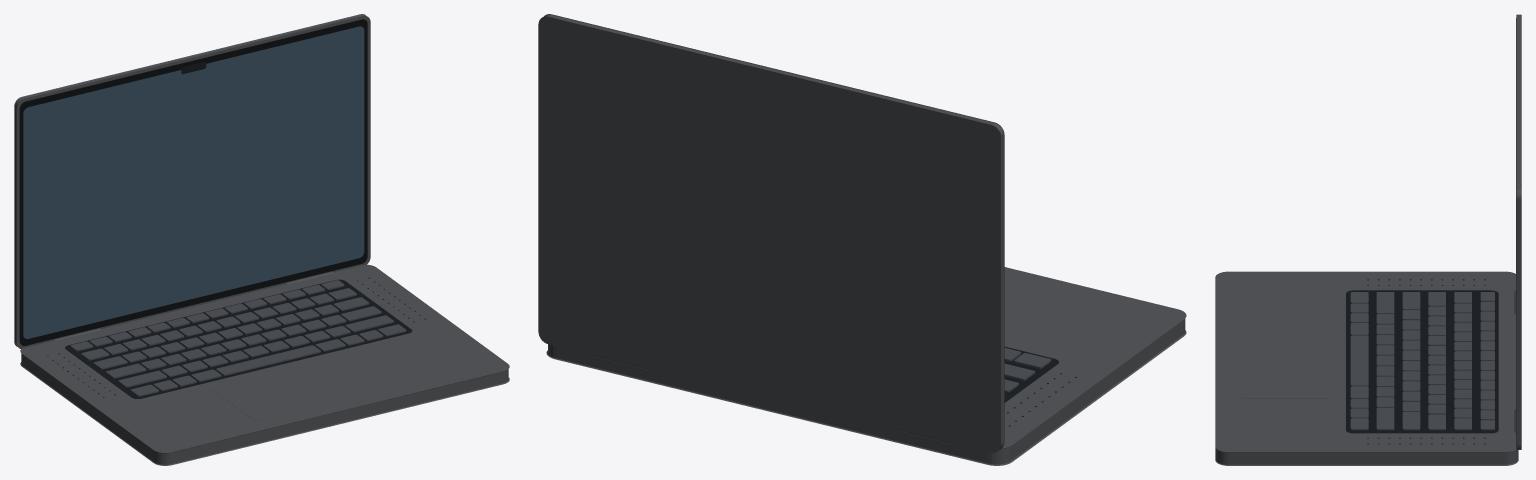
File: laptop.glb
3 renders of one model, left to right at view 1: azimuth 30°, elevation 25°; view 2: azimuth 150°, elevation 25°; view 3: azimuth 270°, elevation 25°, orthographic. The views are drawn at different scales.
Parts seen in each view (by area): view 1: screen, laptop_hardware, keyboard_keys, laptop_insets, laptop_front_glass, trackpad; view 2: laptop_hardware, keyboard_keys, laptop_insets, trackpad; view 3: laptop_hardware, keyboard_keys, laptop_insets, trackpad, laptop_front_glass.
Part boxes in pixels (x1,y1,x2,y2): screen: [23, 26, 364, 338]; laptop_hardware: [14, 14, 509, 465]; keyboard_keys: [70, 280, 406, 396]; laptop_insets: [65, 279, 412, 398]; laptop_front_glass: [19, 19, 367, 345]; trackpad: [211, 353, 394, 419]; laptop_hardware: [538, 14, 1186, 465]; keyboard_keys: [1004, 348, 1051, 392]; laptop_insets: [1004, 346, 1058, 402]; trackpad: [1004, 281, 1036, 315]; laptop_hardware: [1215, 14, 1521, 465]; keyboard_keys: [1350, 292, 1494, 430]; laptop_insets: [1346, 290, 1498, 433]; trackpad: [1239, 325, 1334, 398]; laptop_front_glass: [1516, 18, 1516, 446].
Bounding box in the file's own units: 0.3142 × 0.2221 × 0.225.
